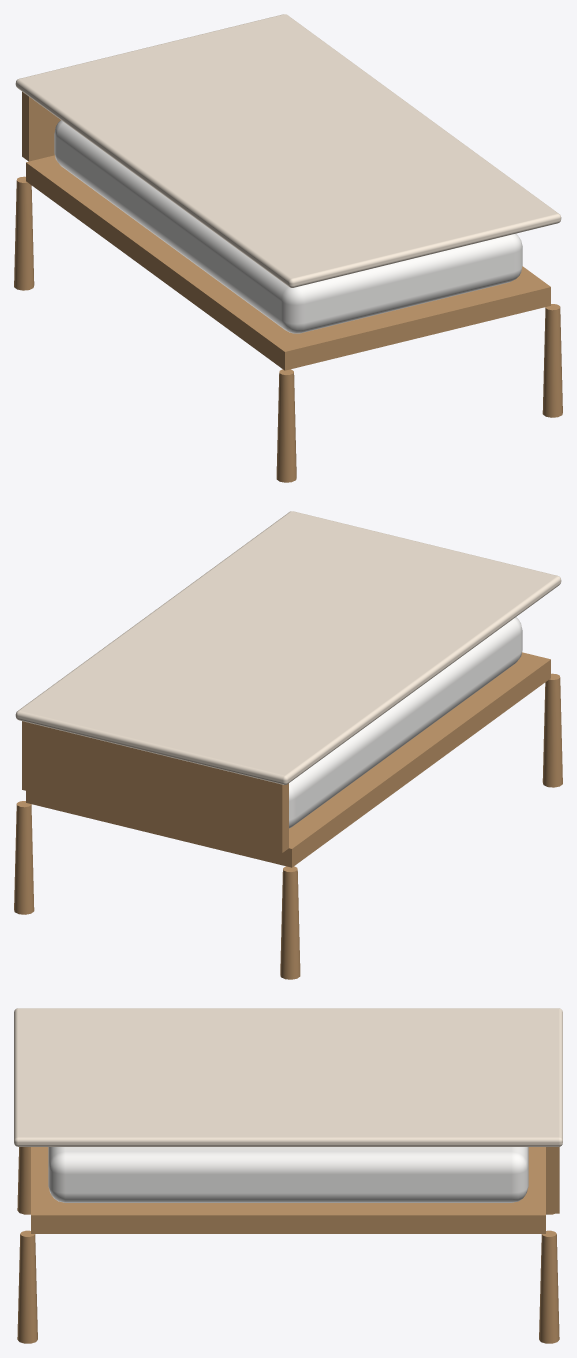
The model's file is kidsbed-lite.glb.
3 views of the same model, one above another, from view 1: azimuth 30°, elevation 25°; view 2: azimuth 150°, elevation 25°; view 3: azimuth 270°, elevation 25° (orthographic).
Parts seen in each view (by area): view 1: material-0-fabric, material-1-frame, material-2-upholstery; view 2: material-0-fabric, material-1-frame, material-2-upholstery; view 3: material-0-fabric, material-2-upholstery, material-1-frame.
Boxes of the visible parts, left/top/right/bottom form: material-0-fabric: left=15, top=14, right=561, bottom=287; material-1-frame: left=14, top=91, right=562, bottom=482; material-2-upholstery: left=54, top=120, right=522, bottom=333; material-0-fabric: left=15, top=511, right=561, bottom=784; material-1-frame: left=14, top=652, right=562, bottom=979; material-2-upholstery: left=289, top=617, right=522, bottom=828; material-0-fabric: left=14, top=1008, right=562, bottom=1146; material-2-upholstery: left=48, top=1147, right=528, bottom=1202; material-1-frame: left=17, top=1146, right=559, bottom=1343.
Bounding box in the file's own units: 0.9471 × 0.65 × 1.6.
